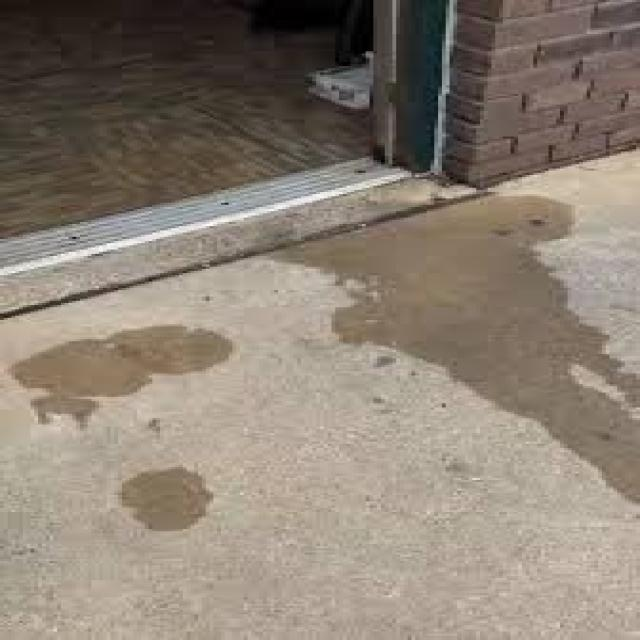water accumulation: (246, 186, 640, 513), (6, 321, 234, 427), (119, 466, 212, 528)
